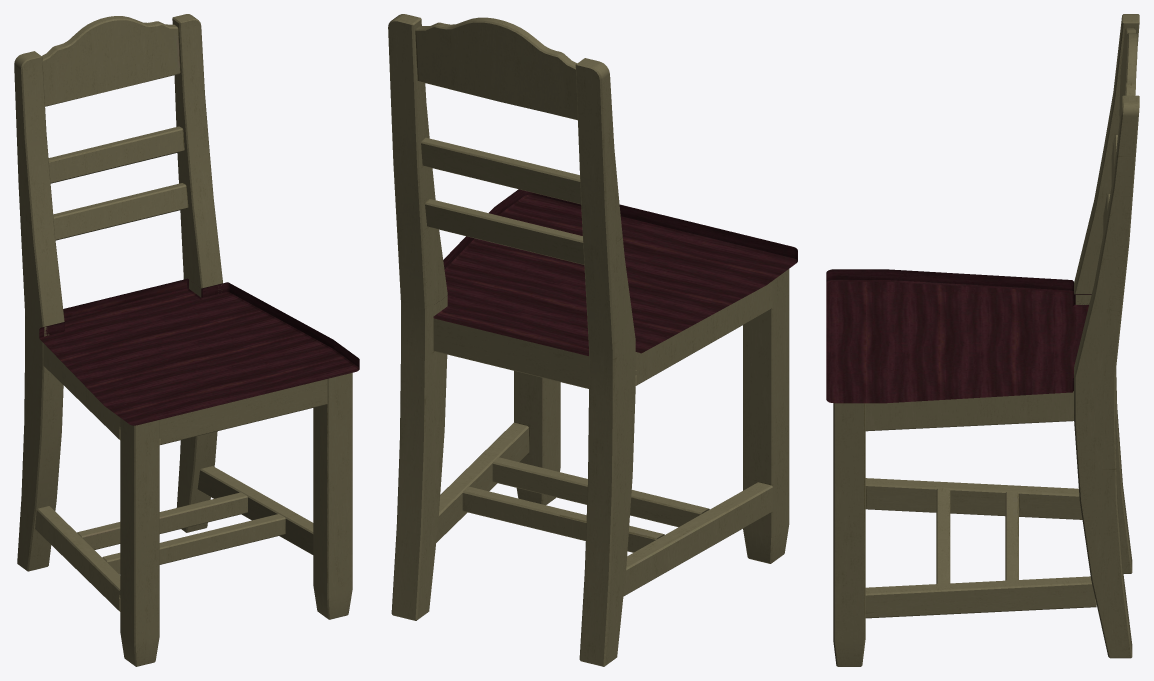
File: example162.glb
3 views of the same model, side by side, from view 1: azimuth 30°, elevation 25°; view 2: azimuth 150°, elevation 25°; view 3: azimuth 270°, elevation 25° (orthographic). The views are drawn at different scales.
Visible parts, largest first — view 1: Buffer Layer (×2); view 2: Buffer Layer (×2); view 3: Buffer Layer (×2).
Boxes of the visible parts, bbox=[...] form: Buffer Layer (×2): bbox=[14, 14, 359, 666]; Buffer Layer (×2): bbox=[388, 14, 797, 666]; Buffer Layer (×2): bbox=[826, 14, 1139, 666].
Size of the model in its own units: 0.42 by 0.9126 by 0.4542.
Materials: 2 (2 with a texture image).
